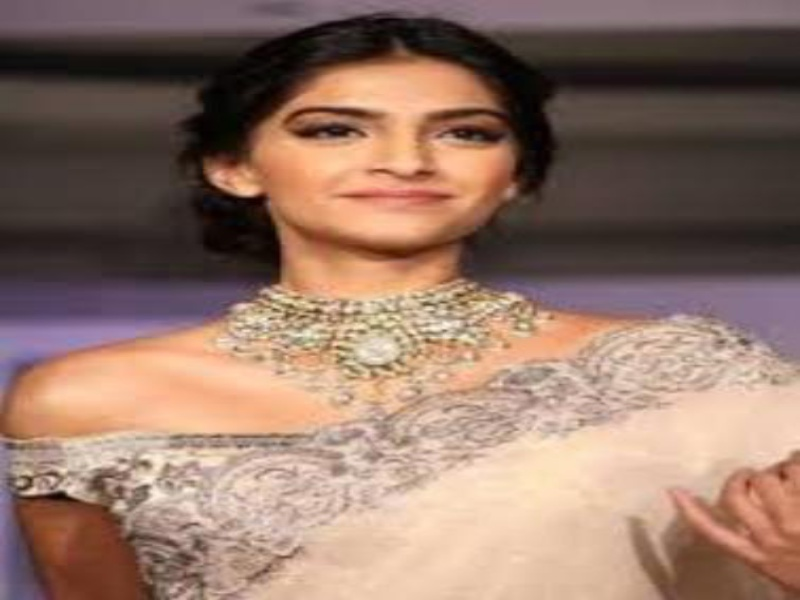TsisyArotava: (178, 1, 577, 294)
